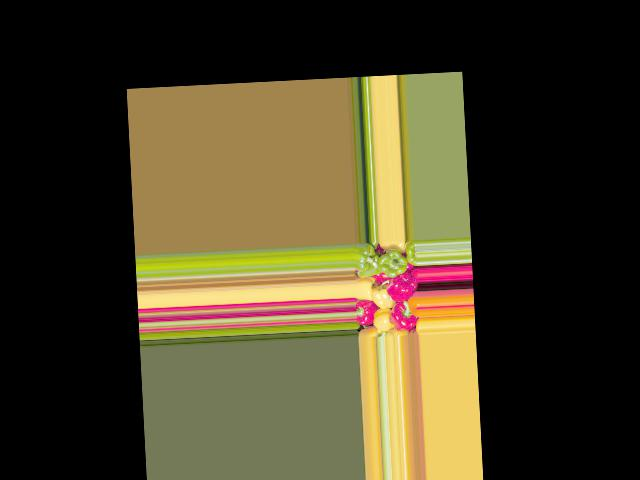bell_pepper: (401, 240, 417, 266)
